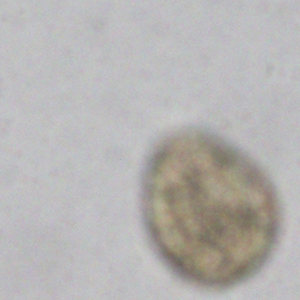Fasciola_hepatica_egg: (139, 122, 280, 288)
